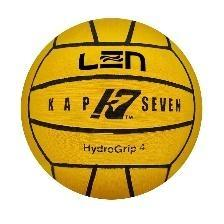Sports-Ball: (22, 18, 202, 203)
